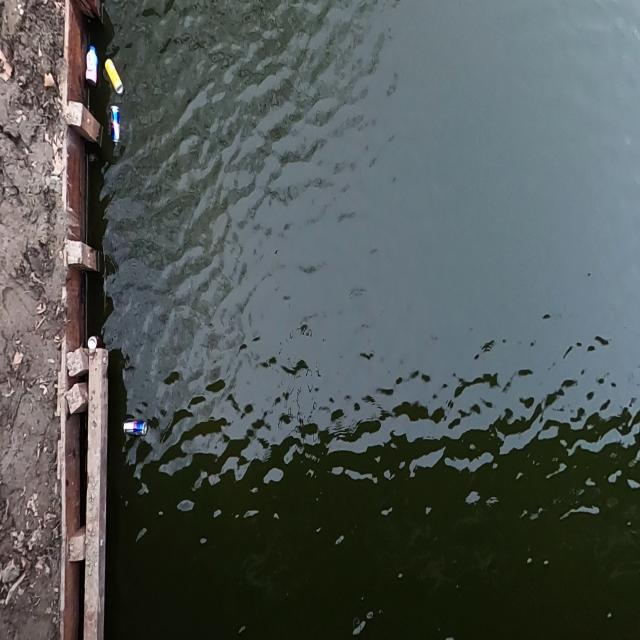Non plastique: (104, 51, 124, 101), (119, 415, 148, 446), (105, 102, 121, 157)
